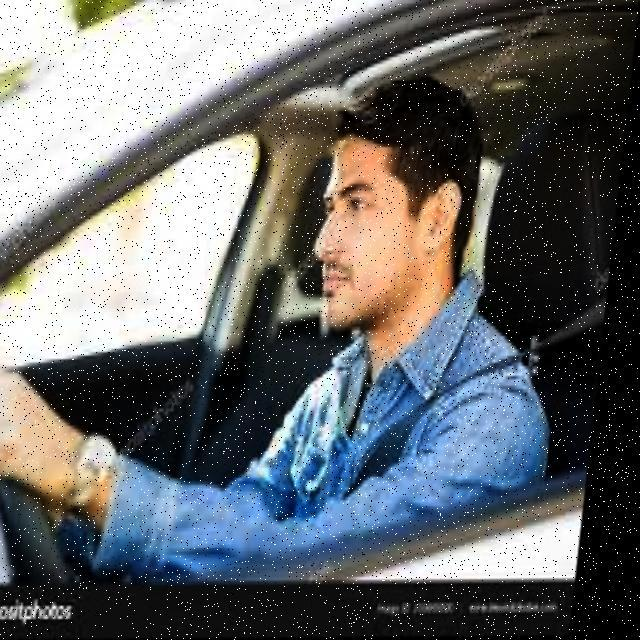seatbelt: (324, 286, 614, 523)
